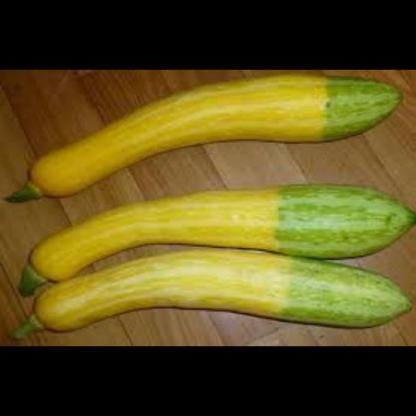vegetable marrow: (13, 69, 415, 217), (14, 180, 416, 302), (23, 246, 415, 340)
